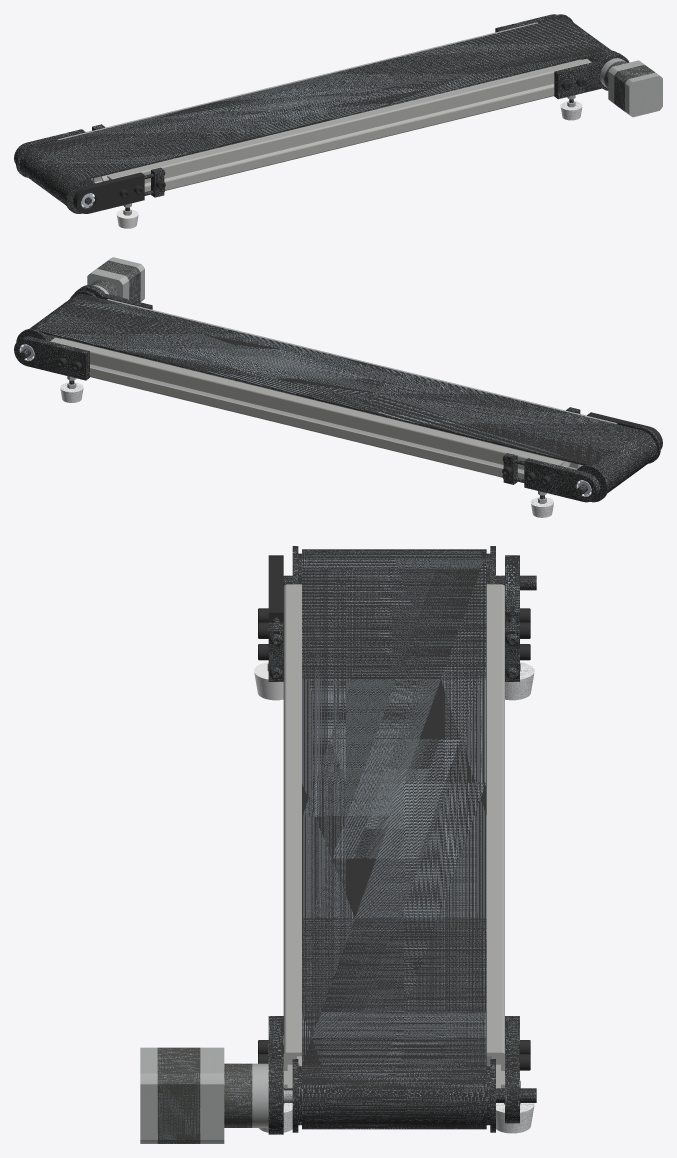
The picture shows the model from 3 angles, top to bottom: view 1: azimuth 30°, elevation 25°; view 2: azimuth 150°, elevation 25°; view 3: azimuth 270°, elevation 25°; orthographic projection. The views are drawn at different scales.
Visible parts, largest first — view 1: group_6, instance_1, motor_nema17_gear (×3), group_9 (×2), group_1, group_0, group_4, group_10; view 2: group_6, instance_1, group_9 (×3), motor_nema17_gear (×2), group_1, group_0; view 3: group_6, instance_1, motor_nema17_gear (×5), group_9 (×3), group_1.
Boxes of the visible parts, left/top/right/bottom form: group_6: left=19, top=17, right=611, bottom=205; instance_1: left=57, top=22, right=591, bottom=191; motor_nema17_gear (×3): left=608, top=60, right=662, bottom=117; group_9 (×2): left=14, top=129, right=144, bottom=213; group_1: left=554, top=52, right=629, bottom=99; group_0: left=65, top=178, right=94, bottom=213; group_4: left=560, top=101, right=582, bottom=120; group_10: left=116, top=209, right=138, bottom=228; group_6: left=29, top=294, right=656, bottom=493; instance_1: left=50, top=299, right=617, bottom=478; group_9 (×3): left=14, top=336, right=662, bottom=502; motor_nema17_gear (×2): left=87, top=260, right=140, bottom=301; group_1: left=74, top=285, right=152, bottom=309; group_0: left=577, top=464, right=608, bottom=502; group_6: left=302, top=549, right=486, bottom=1129; instance_1: left=283, top=584, right=504, bottom=1088; motor_nema17_gear (×5): left=140, top=1047, right=268, bottom=1143; group_9 (×3): left=268, top=555, right=519, bottom=1123; group_1: left=268, top=1016, right=283, bottom=1134.
Size of the model in its own units: 27.48 by 8.44 by 2.47.
